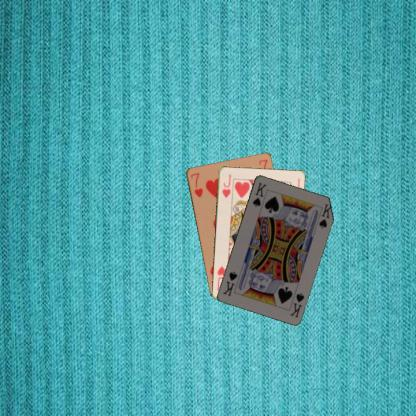7h: (188, 170, 204, 198)
Jh: (219, 172, 232, 199)
Ks: (250, 180, 268, 208), (287, 290, 305, 318)
